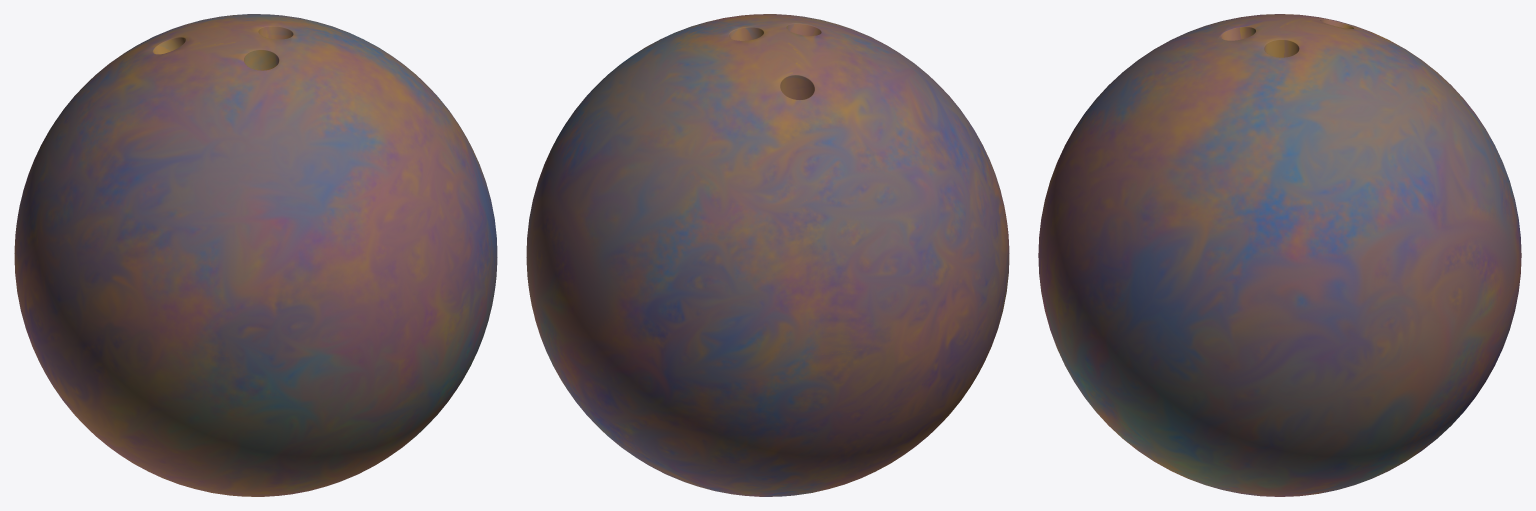
Rendered from bowling_ball.dae.
3 views of the same model, side by side, from view 1: azimuth 30°, elevation 25°; view 2: azimuth 150°, elevation 25°; view 3: azimuth 270°, elevation 25° (orthographic).
Parts seen in each view (by area): view 1: bowling_ball; view 2: bowling_ball; view 3: bowling_ball.
Part boxes in pixels (box(x1,y1,x2,y2)): bowling_ball: box(14, 14, 497, 496); bowling_ball: box(526, 14, 1009, 496); bowling_ball: box(1038, 14, 1521, 496).
Bounding box in the file's own units: 0.8866 × 0.8866 × 0.8866.
Materials: 1 (1 with a texture image).
